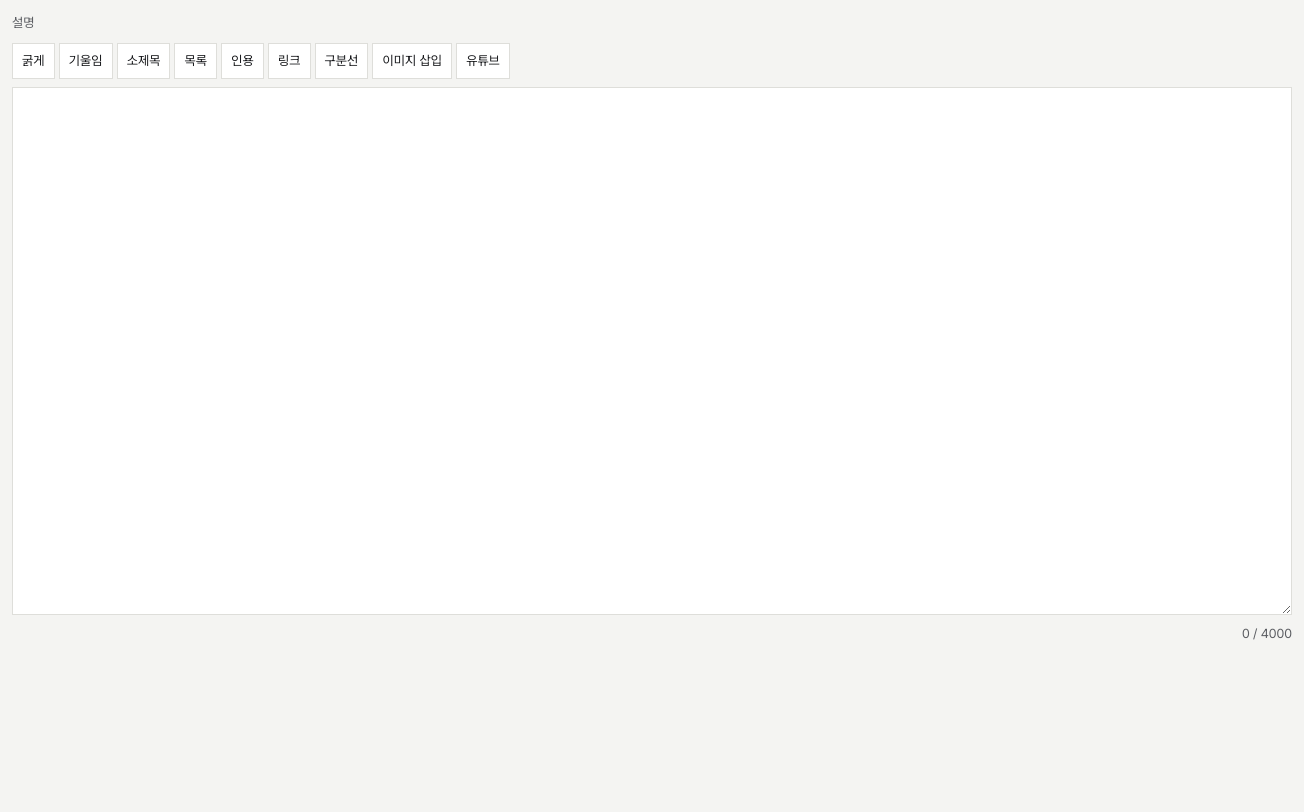
Test: MarkdownEditor › 유튜브가 아닌 주소는 넣지 않는다
This screenshot has width=1304, height=812.
Click the button "유튜브" at (483, 61), box [456,43,510,79]
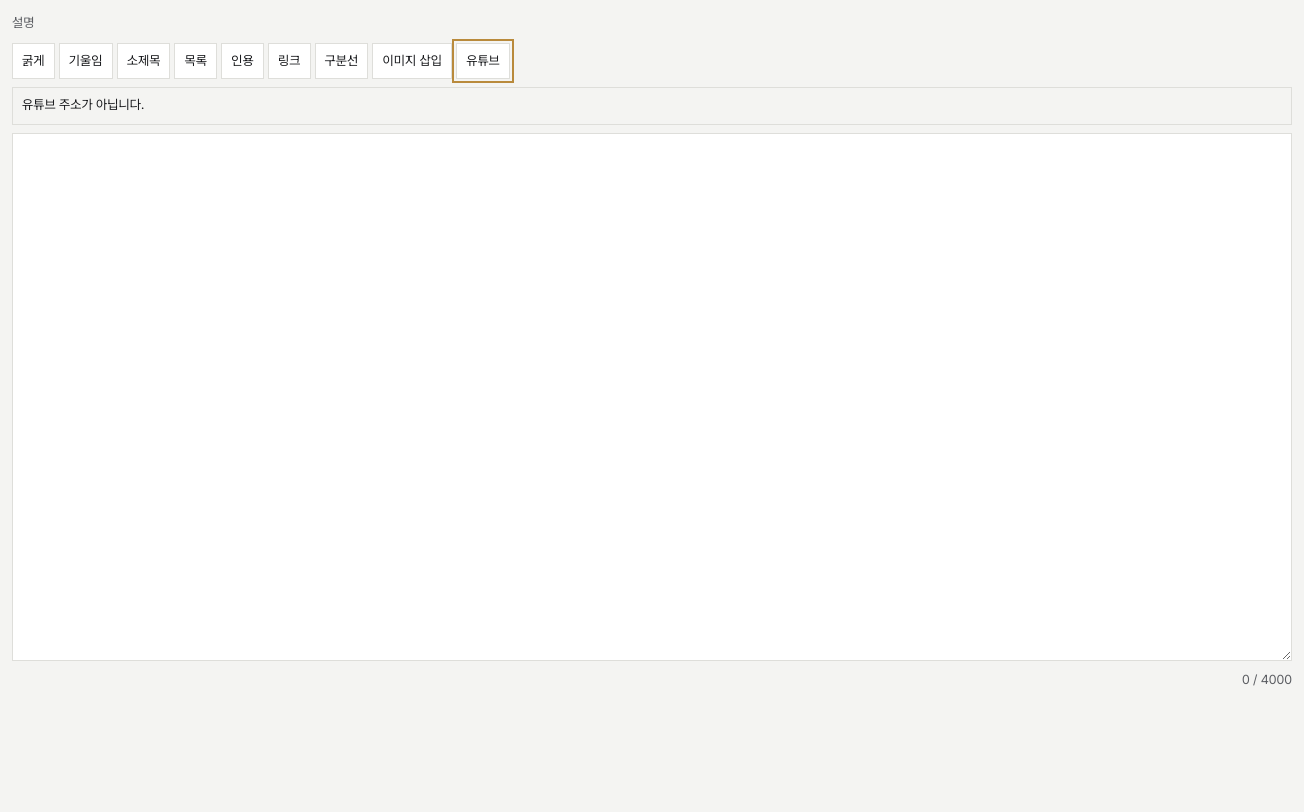
Expected: the message shows "유튜브 주소가 아닙니다", [22,97,144,112]
